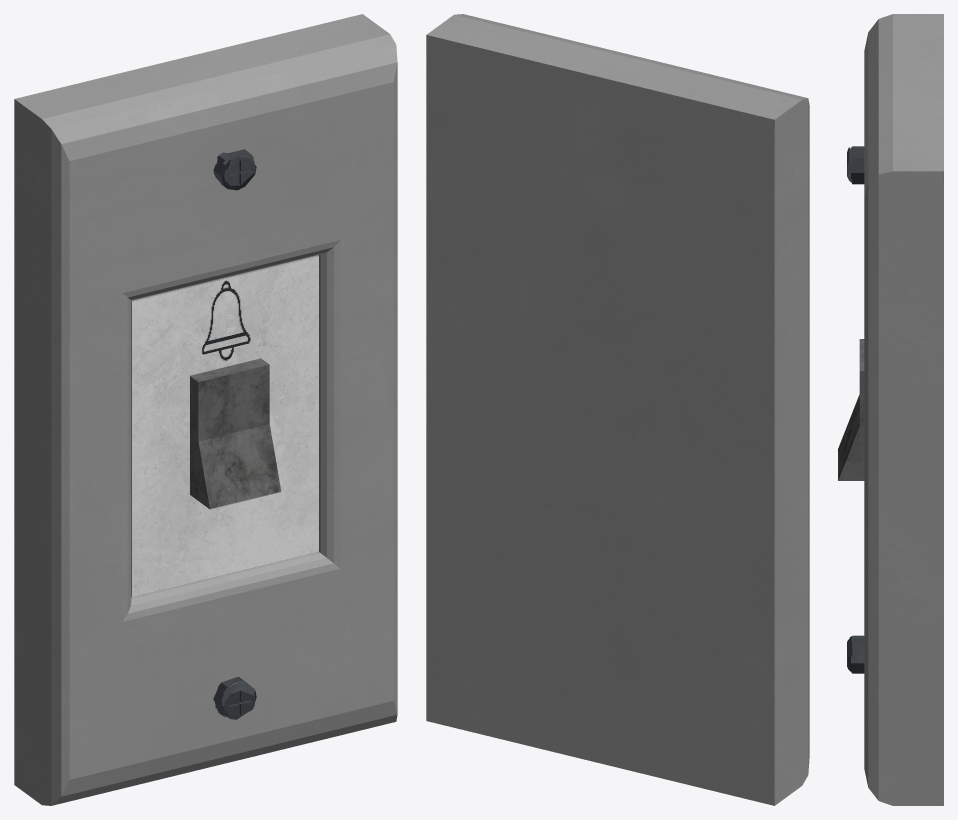
The model's file is doorbell_-_game_ready_low_poly.glb.
3 renders of one model, left to right at view 1: azimuth 30°, elevation 25°; view 2: azimuth 150°, elevation 25°; view 3: azimuth 270°, elevation 25°, orthographic. The views are drawn at different scales.
Parts seen in each view (by area): view 1: Cylinder; view 2: Cylinder; view 3: Cylinder.
Boxes of the visible parts, bbox=[...] form: Cylinder: bbox=[14, 14, 397, 805]; Cylinder: bbox=[426, 14, 809, 805]; Cylinder: bbox=[838, 14, 943, 805].
Bounding box in the file's own units: 1.06 × 2 × 0.3023.
1 material, 1 textured.
